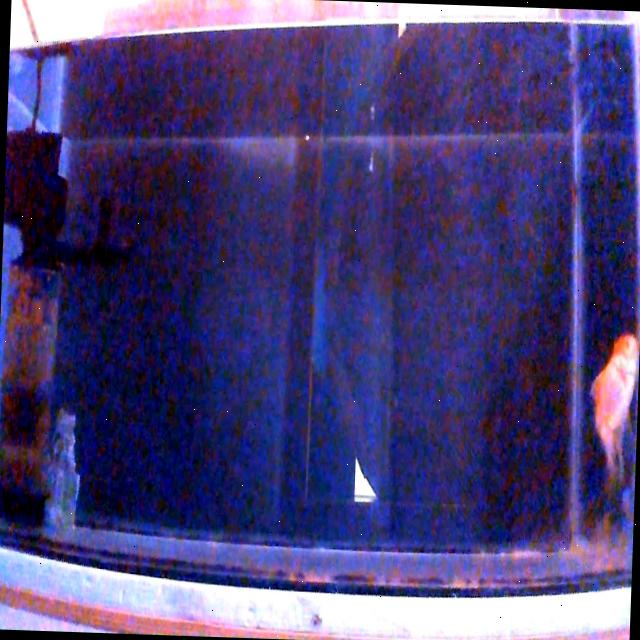fish: (590, 334, 637, 473)
